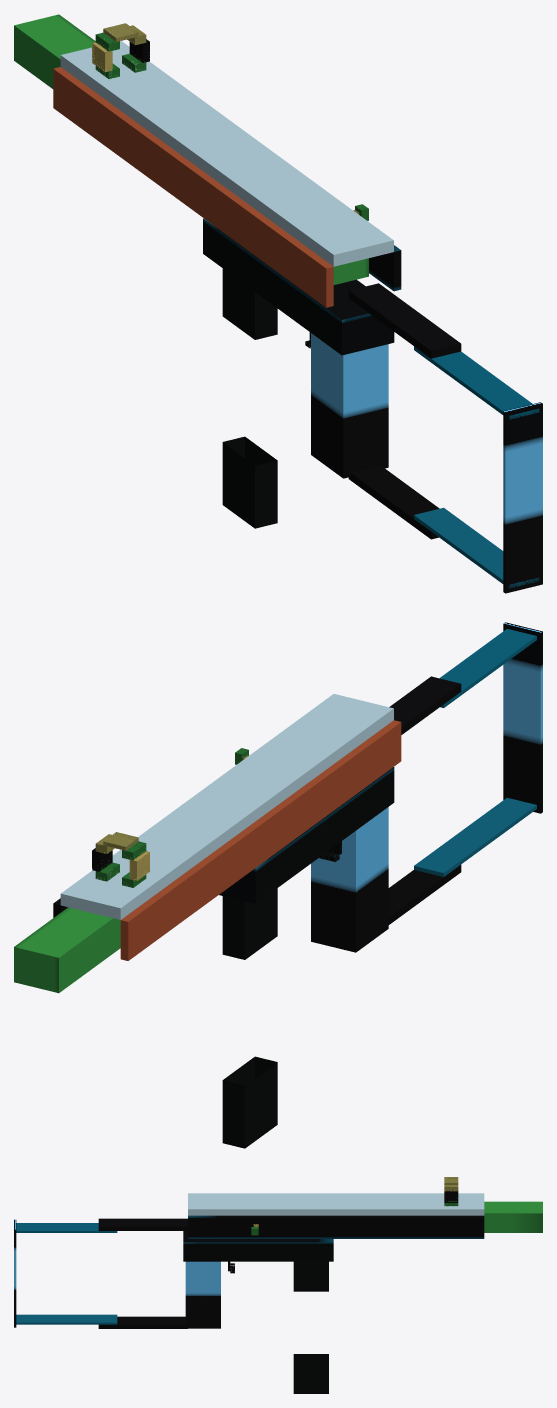
Rendered from smg2R.obj.
3 renders of one model, top to bottom at view 1: azimuth 30°, elevation 25°; view 2: azimuth 150°, elevation 25°; view 3: azimuth 270°, elevation 25°, orthographic. The views are drawn at different scales.
Parts seen in each view (by area): view 1: cube; view 2: cube; view 3: cube.
Part boxes in pixels (x1=…): cube: x1=14, y1=14, x2=542, y2=593; cube: x1=14, y1=622, x2=542, y2=1148; cube: x1=14, y1=1177, x2=542, y2=1393.
Bounding box in the file's own units: 3.38 × 12.38 × 28.12.
